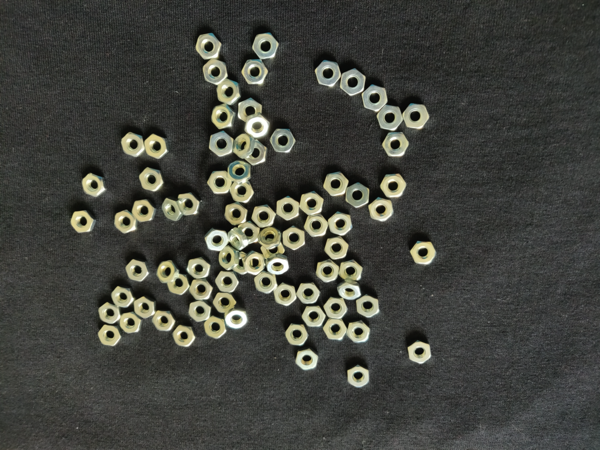nut: (251, 32, 280, 60), (314, 59, 342, 88), (193, 32, 222, 59), (339, 68, 366, 96), (243, 113, 271, 140), (241, 59, 270, 85), (270, 127, 297, 154), (143, 132, 170, 159), (120, 131, 147, 158), (362, 84, 388, 112), (138, 167, 166, 193), (202, 58, 228, 85), (403, 103, 430, 129), (377, 105, 404, 131), (237, 98, 264, 124), (211, 104, 237, 131), (209, 131, 235, 158), (382, 132, 410, 157), (81, 173, 109, 198), (406, 339, 432, 365), (113, 209, 139, 235), (243, 139, 268, 166), (409, 241, 437, 265), (327, 211, 353, 236), (380, 174, 407, 198), (70, 209, 97, 233), (131, 199, 158, 223), (216, 79, 241, 104), (207, 170, 232, 195), (315, 259, 340, 284), (339, 259, 364, 284), (356, 294, 381, 319), (323, 296, 348, 321), (323, 317, 348, 342), (273, 282, 298, 307), (276, 195, 300, 221), (227, 159, 251, 185), (204, 226, 228, 252), (243, 250, 267, 276), (368, 197, 393, 221), (346, 182, 370, 207), (324, 172, 349, 196), (230, 180, 255, 204), (258, 226, 283, 250), (161, 197, 185, 222), (177, 193, 202, 217), (224, 306, 249, 330), (133, 295, 157, 320), (232, 133, 255, 159), (304, 214, 330, 237), (261, 238, 287, 261), (186, 257, 212, 280), (188, 278, 214, 301), (151, 310, 177, 333), (156, 260, 180, 284), (172, 324, 196, 348), (110, 285, 134, 309), (283, 225, 306, 250), (284, 323, 309, 346), (266, 253, 291, 276), (253, 271, 278, 294), (215, 270, 240, 293), (126, 259, 151, 282), (188, 300, 213, 323), (97, 325, 122, 348), (337, 280, 363, 302), (301, 305, 327, 327), (97, 302, 123, 324), (300, 191, 323, 215), (224, 202, 248, 225), (252, 205, 276, 228), (325, 237, 349, 260), (347, 321, 371, 344), (295, 348, 319, 371), (203, 316, 227, 339), (120, 312, 144, 335), (296, 282, 321, 304), (218, 246, 240, 271), (232, 251, 254, 276), (348, 365, 371, 388), (238, 221, 260, 245), (213, 292, 237, 314), (227, 227, 248, 251), (167, 274, 191, 295)
